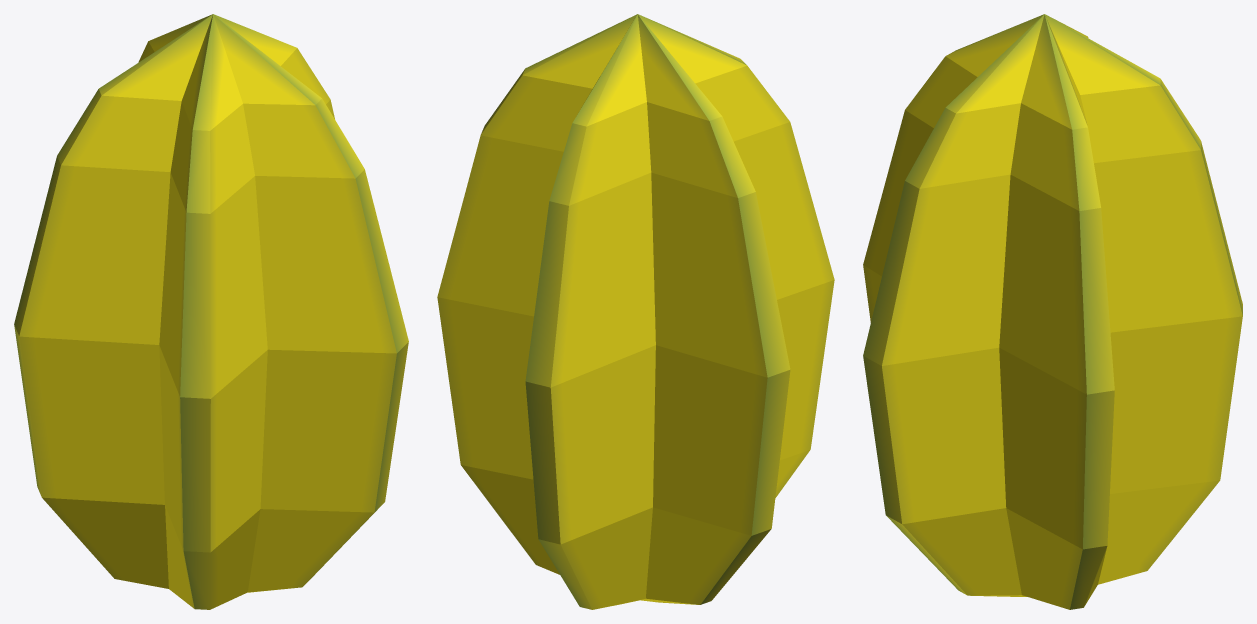
Rendered from Carambola.fbx.
The picture shows the model from 3 angles, left to right: view 1: azimuth 30°, elevation 25°; view 2: azimuth 150°, elevation 25°; view 3: azimuth 270°, elevation 25°; orthographic projection.
Visible parts, largest first — view 1: Carambola_All, Carambola_Down, Carambola_Top; view 2: Carambola_Top, Carambola_Down, Carambola_All; view 3: Carambola_Down, Carambola_Top, Carambola_All.
Part boxes in pixels (box(x1,y1,x2,y2)): Carambola_All: box(14, 14, 405, 591); Carambola_Down: box(15, 329, 408, 609); Carambola_Top: box(14, 14, 408, 396); Carambola_Top: box(437, 14, 834, 387); Carambola_Down: box(453, 280, 834, 609); Carambola_All: box(437, 15, 830, 607); Carambola_Down: box(863, 270, 1240, 609); Carambola_Top: box(880, 15, 1218, 394); Carambola_All: box(863, 14, 1242, 584).
Size of the model in its own units: 7.05 by 11.15 by 6.7.
